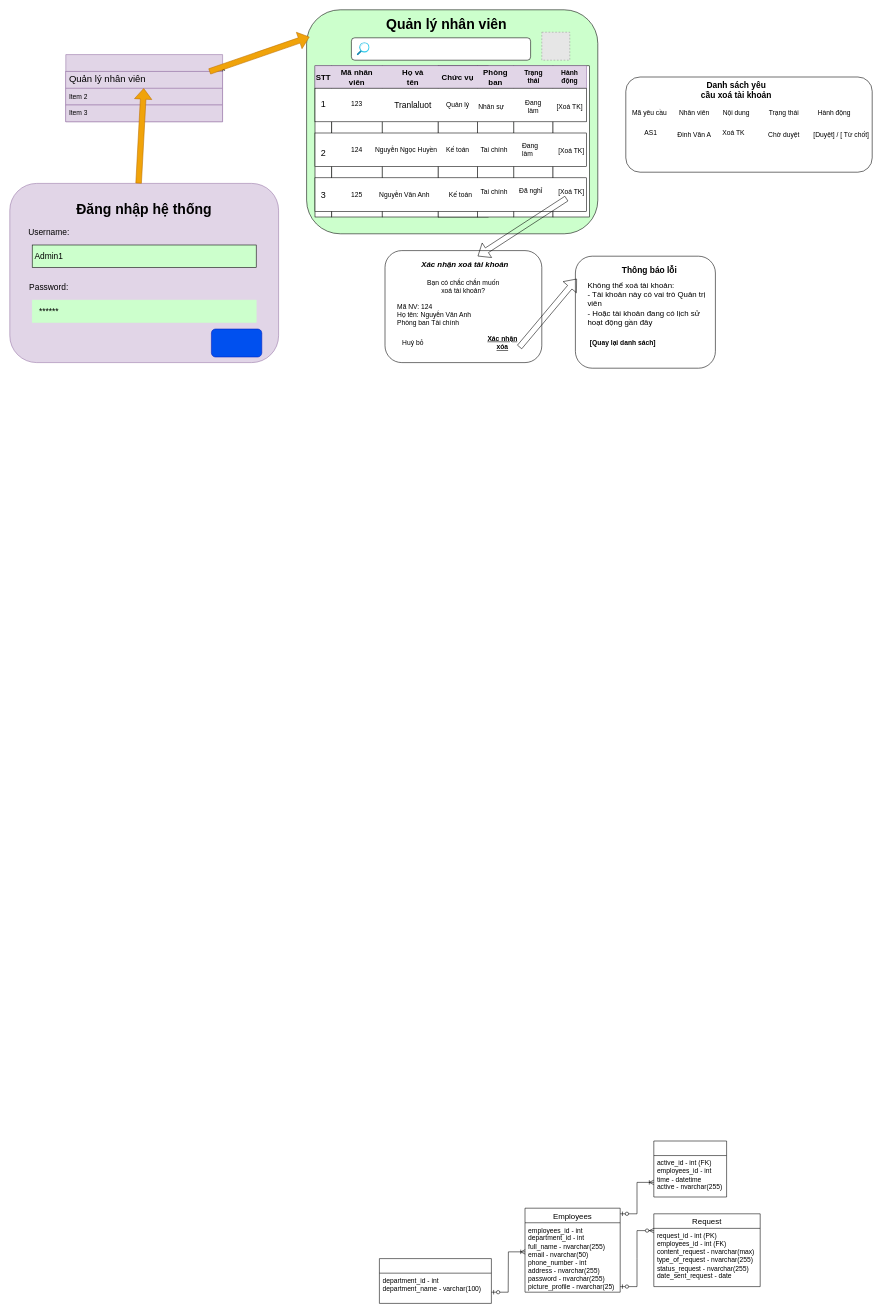
The diagram is 882 pixels wide and 1315 high, and some of its shapes have lost their labels. Grey dashed boxes stand in for pictures. The box of each missing label's shape, as (x1, y1, x2, y2) in pixels:
active_history: (653, 1140, 727, 1197)
Danh mục quản lý: (65, 54, 223, 122)
Departments: (379, 1258, 491, 1303)
LOGIN: (211, 328, 262, 357)
